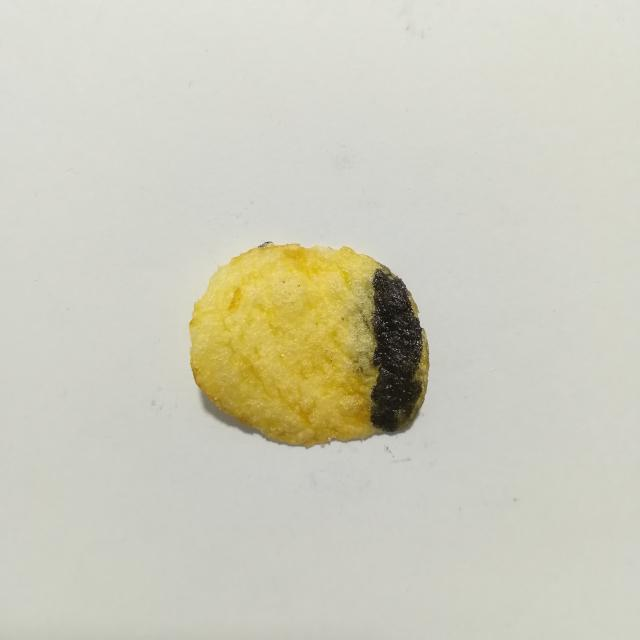chip: (189, 243, 429, 446)
damaged: (371, 269, 422, 432)
semi-damaged: (348, 274, 379, 382), (397, 329, 429, 430)
